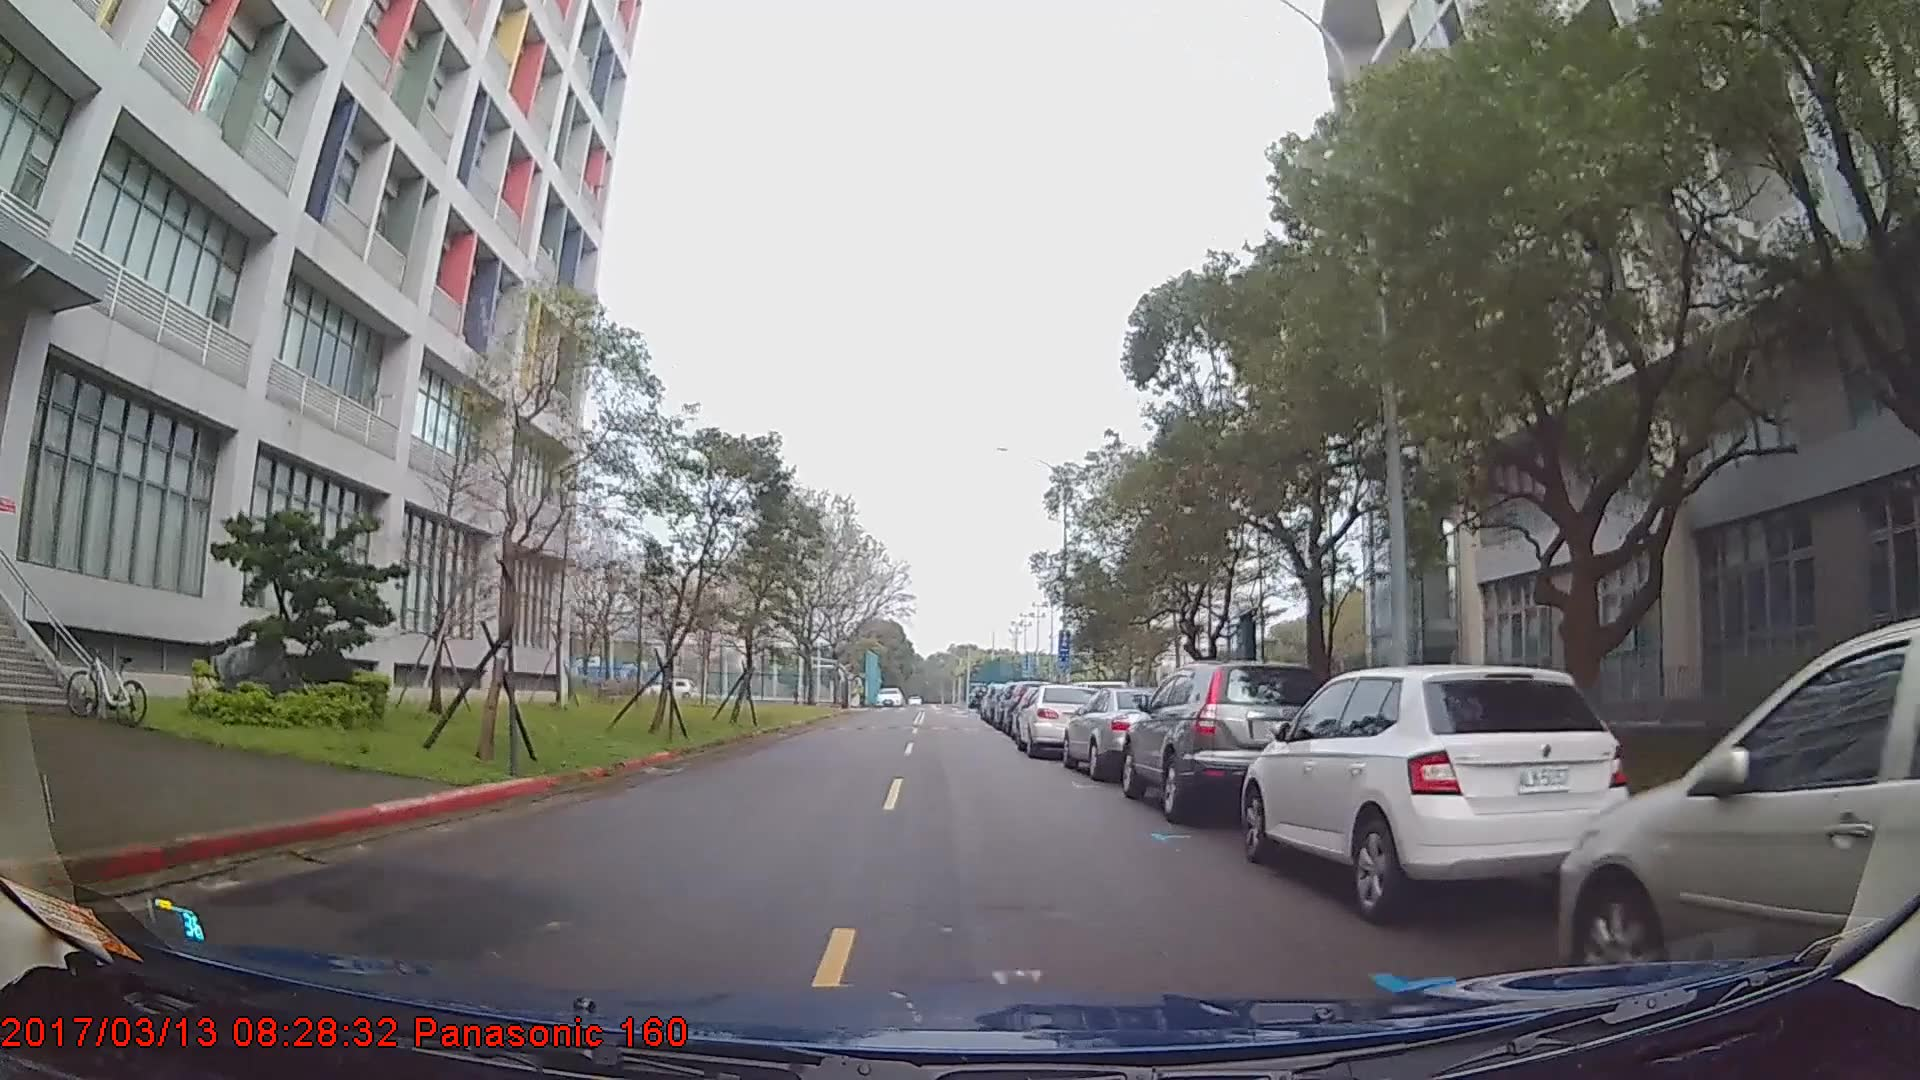vehicle: (1556, 615, 1920, 1004), (1242, 662, 1636, 928), (1120, 661, 1342, 825), (1062, 686, 1174, 781), (1013, 680, 1106, 757)
